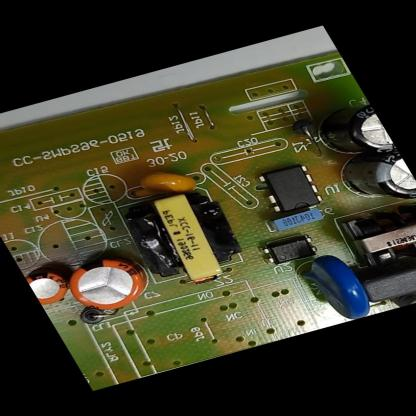Cap1: (48, 241, 168, 324)
Cap2: (20, 257, 87, 312)
Cap3: (321, 142, 415, 218)
Cap4: (290, 95, 400, 174)
MOSFET: (249, 158, 332, 221)
Mov: (292, 246, 388, 326)
Resistor: (389, 288, 415, 308)
Transformer: (110, 183, 257, 296), (334, 200, 416, 274)
